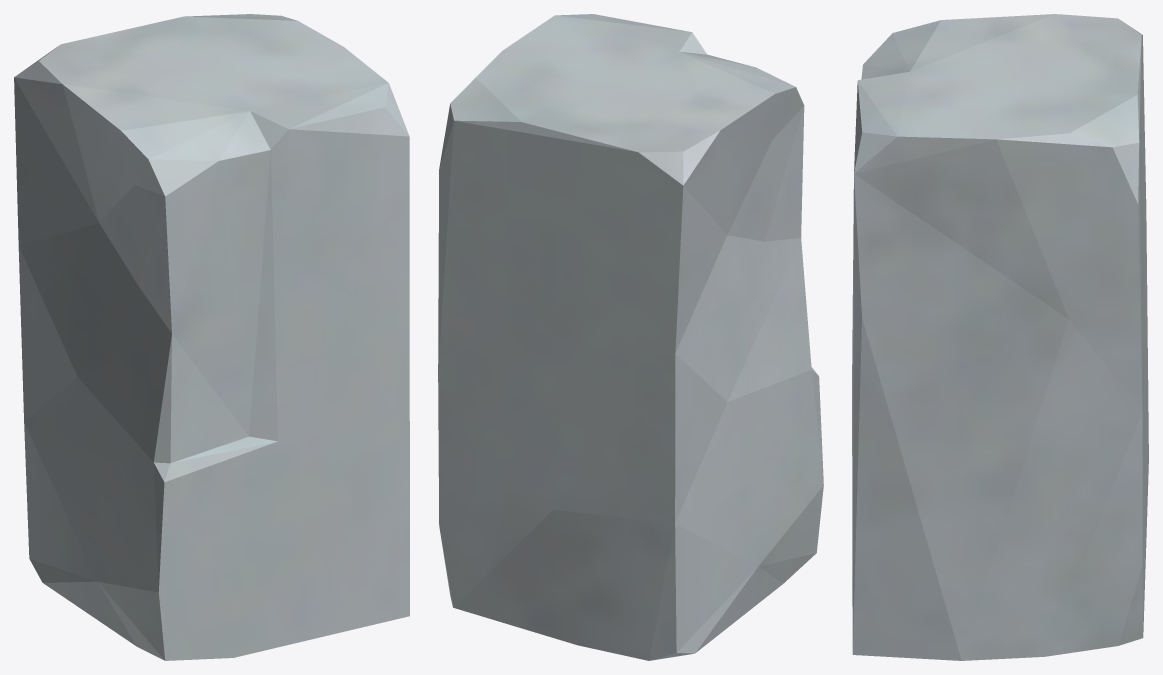
File: P_RockCubic_Metric_1x1x2.obj
3 renders of one model, left to right at view 1: azimuth 30°, elevation 25°; view 2: azimuth 150°, elevation 25°; view 3: azimuth 270°, elevation 25°, orthographic. The views are drawn at different scales.
Size of the model in its own units: 2.12 by 3.97 by 2.05.
